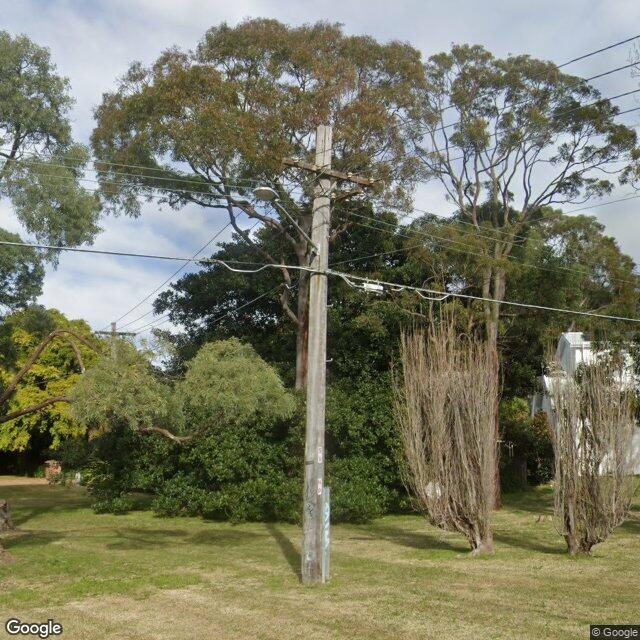crossarm: (276, 155, 377, 187), (304, 188, 362, 215), (95, 330, 136, 337)
streetlight: (252, 186, 318, 250)
timber-pole: (302, 127, 334, 588)
